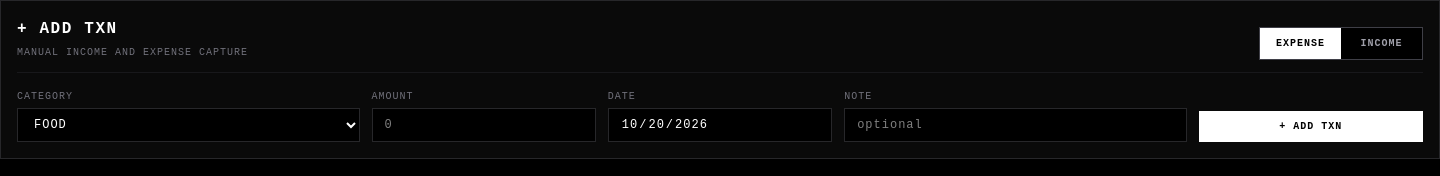
AddTransactionPanel › blocks an invalid date
This screenshot has width=1440, height=176.
Type "100" into the number field labelled "Amount".
click(484, 125); type("100")  # box [372, 108, 596, 142]
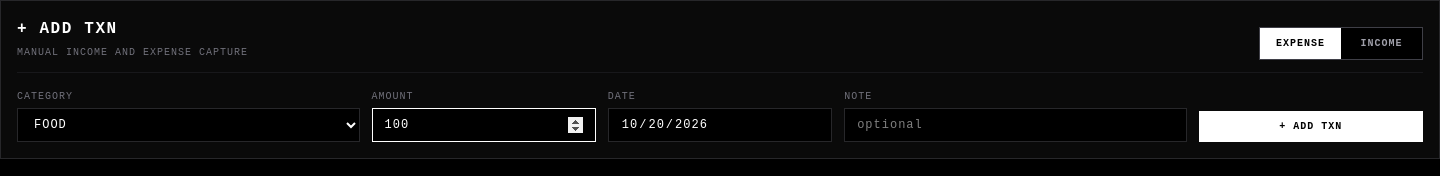
Clear the date field labelled "Date" at x=720, y=125, box [608, 108, 832, 142]
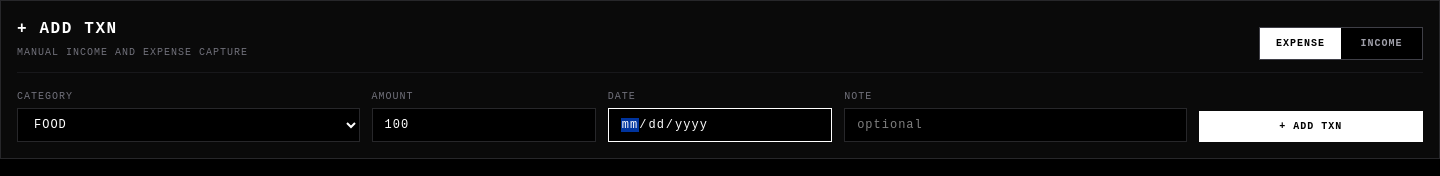
Click the button "+ Add Txn".
click(1311, 126)  # box [1199, 111, 1423, 142]
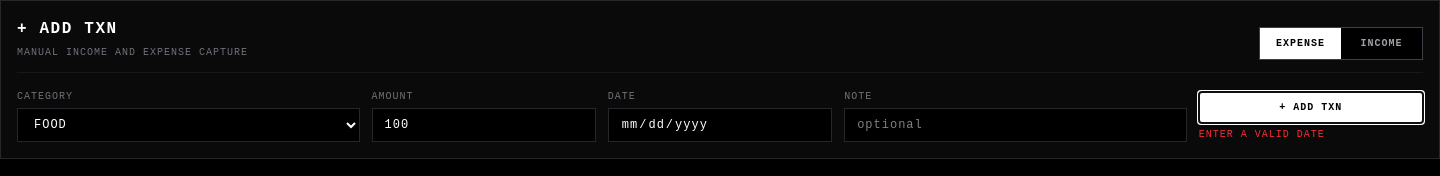
Check: the text "Enter a valid date" is shown, box [1199, 129, 1325, 140]
